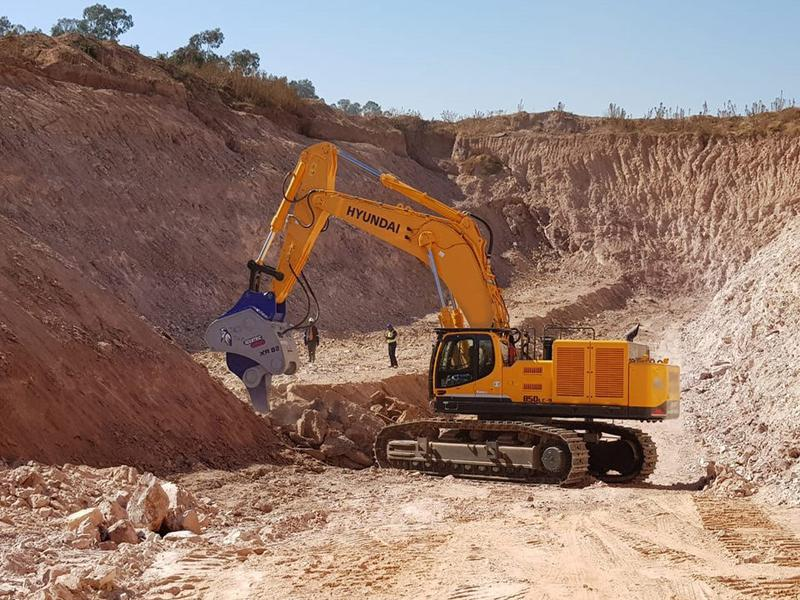shovel: (200, 139, 682, 492)
